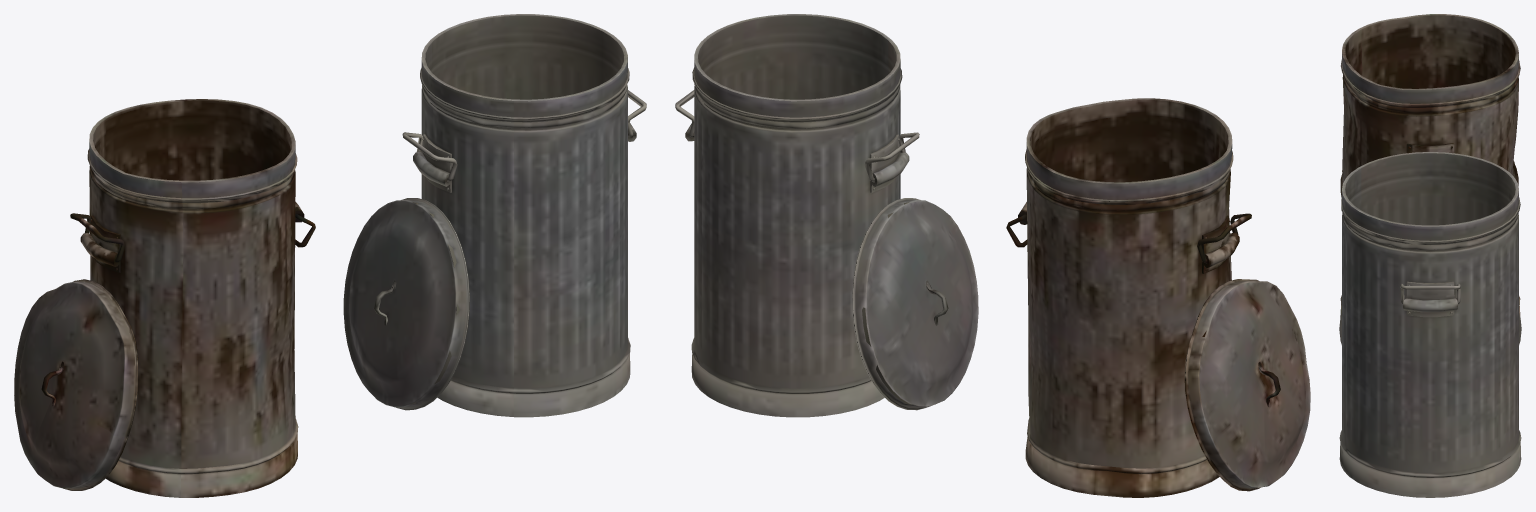
File: p_metal_trash_can.glb
3 renders of one model, left to right at view 1: azimuth 30°, elevation 25°; view 2: azimuth 150°, elevation 25°; view 3: azimuth 270°, elevation 25°, orthographic. The views are drawn at different scales.
Parts seen in each view (by area): view 1: metal_trash_can_handle_left, metal_trash_can_rust; view 2: metal_trash_can_handle_left, metal_trash_can_rust; view 3: metal_trash_can_handle_left, metal_trash_can_rust.
Boxes of the visible parts, <box> form: metal_trash_can_handle_left: <box>343,14,646,417</box>; metal_trash_can_rust: <box>14,99,315,497</box>; metal_trash_can_handle_left: <box>675,14,978,417</box>; metal_trash_can_rust: <box>1006,98,1310,497</box>; metal_trash_can_handle_left: <box>1339,152,1521,497</box>; metal_trash_can_rust: <box>1340,14,1520,317</box>.
Bounding box in the file's own units: 1.78 × 0.9062 × 0.5543.
2 materials, 2 textured.
